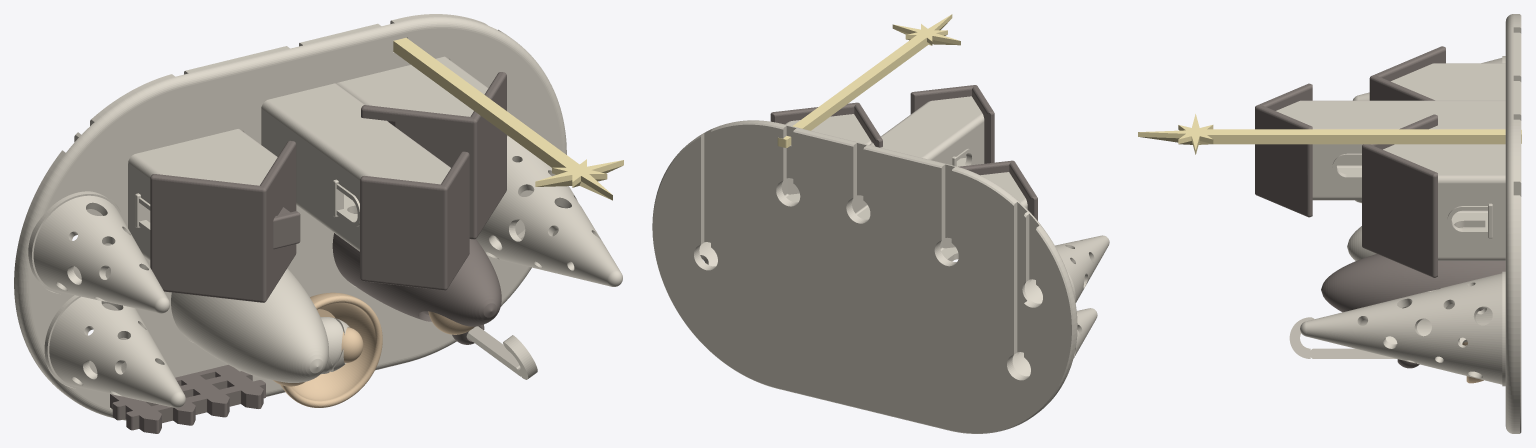
Rendered from belen_3_pueblo.glb.
The picture shows the model from 3 angles, left to right: view 1: azimuth 30°, elevation 25°; view 2: azimuth 150°, elevation 25°; view 3: azimuth 270°, elevation 25°; orthographic projection. The views are drawn at different scales.
Visible parts, largest first — view 1: base_belen_3_pueblo_0, iglesia_cuerpo_2, casa_pequena_tejado_6, iglesia_tejado_torre_3, maria_cuerpo_11, arbol_pequeno_7, arbol_mediano_9, arbol_pequeno_8, iglesia_tejado_nave_4, casa_pequena_cuerpo_5, jose_cuerpo_16, estrella_con_palo_1 (+5 smaller); view 2: base_belen_3_pueblo_0, iglesia_cuerpo_2, estrella_con_palo_1, arbol_pequeno_7, iglesia_tejado_torre_3, iglesia_tejado_nave_4, casa_pequena_tejado_6, casa_pequena_cuerpo_5, arbol_pequeno_8; view 3: iglesia_cuerpo_2, arbol_mediano_9, iglesia_tejado_nave_4, base_belen_3_pueblo_0, estrella_con_palo_1, jose_cuerpo_16, iglesia_tejado_torre_3, casa_pequena_cuerpo_5, casa_pequena_tejado_6, jose_baston_18, maria_cuerpo_11.
Boxes of the visible parts, x1,y1,x2,y2 form: base_belen_3_pueblo_0: (14,14,566,420); iglesia_cuerpo_2: (261,56,488,251); casa_pequena_tejado_6: (150,140,300,302); iglesia_tejado_torre_3: (360,151,469,290); maria_cuerpo_11: (171,268,328,382); arbol_pequeno_7: (28,191,169,313); arbol_mediano_9: (476,135,622,286); arbol_pequeno_8: (44,295,185,407); iglesia_tejado_nave_4: (361,72,506,239); casa_pequena_cuerpo_5: (128,129,277,260); jose_cuerpo_16: (332,213,501,344); estrella_con_palo_1: (393,37,623,200); base_belen_3_pueblo_0: (652,120,1077,433); iglesia_cuerpo_2: (781,96,984,219); estrella_con_palo_1: (777,14,960,147); arbol_pequeno_7: (1024,235,1109,303); iglesia_tejado_torre_3: (910,85,994,163); iglesia_tejado_nave_4: (770,102,882,147); casa_pequena_tejado_6: (958,160,1037,220); casa_pequena_cuerpo_5: (940,172,1027,261); arbol_pequeno_8: (1012,308,1097,376); iglesia_cuerpo_2: (1276,100,1505,260); arbol_mediano_9: (1300,271,1505,386); iglesia_tejado_nave_4: (1362,114,1437,277); base_belen_3_pueblo_0: (1505,14,1521,433); estrella_con_palo_1: (1138,114,1521,154); jose_cuerpo_16: (1321,254,1505,368); iglesia_tejado_torre_3: (1255,83,1312,217); casa_pequena_cuerpo_5: (1391,63,1505,100); casa_pequena_tejado_6: (1369,46,1445,100); jose_baston_18: (1289,317,1396,358); maria_cuerpo_11: (1347,226,1485,260).
Bounding box in the file's own units: 210 × 126 × 147.
